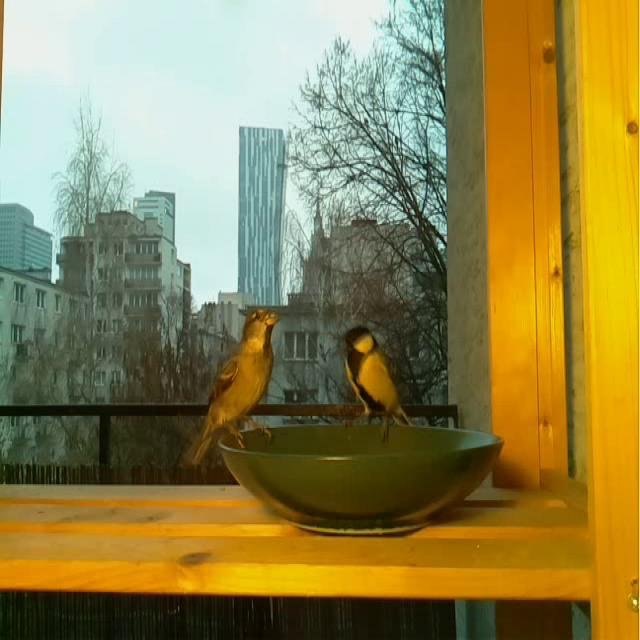Bogatka: (339, 321, 415, 436)
Wrobel: (190, 306, 283, 458)
